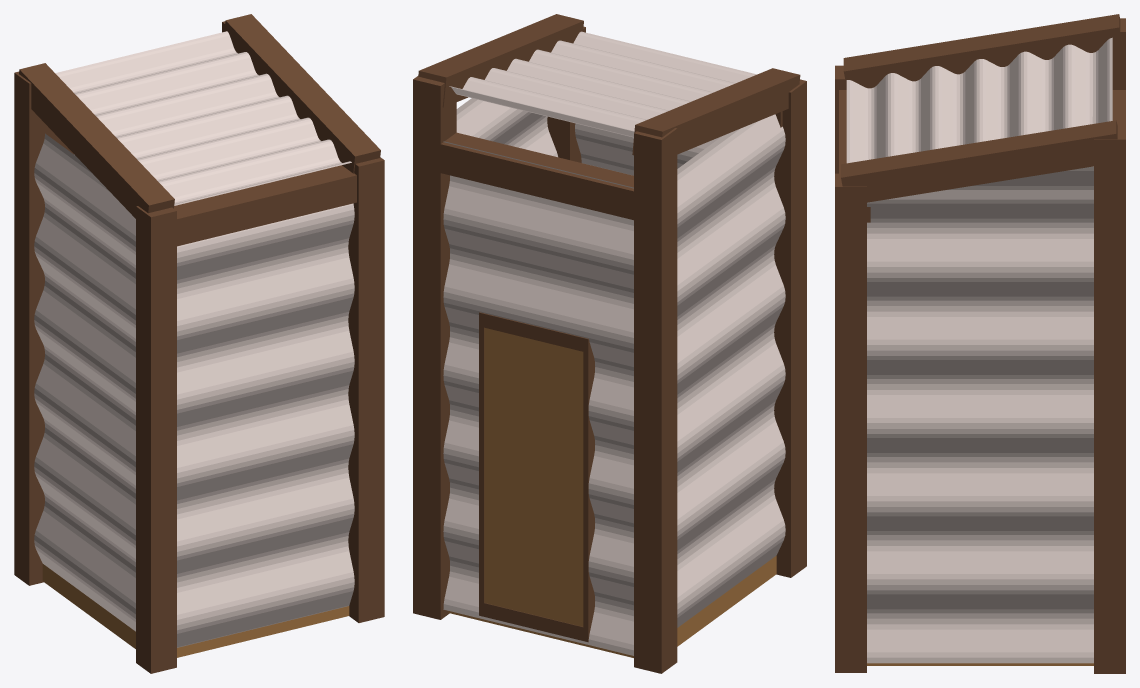
The model's file is Toilet.fbx.
3 renders of one model, left to right at view 1: azimuth 30°, elevation 25°; view 2: azimuth 150°, elevation 25°; view 3: azimuth 270°, elevation 25°, orthographic. The views are drawn at different scales.
Visible parts, largest first — view 1: Plane.020, Plane.021, Plane.017, Cube.062, Cube.063, Cube.066, Cube.055, Cube.059, Cube.056, Cube.067; view 2: Plane.018, Plane.021, Cube.065, Cube.066, Cube.061, Plane.017, Cube.062, Cube.060, Cube.064, Cube.055, Cube.056, Plane.019 (+3 smaller); view 3: Plane.019, Plane.017, Cube.061, Cube.063, Cube.056, Cube.055, Plane.021, Cube.067, Cube.059, Cube.066, Cube.062, Cube.060.
Part boxes in pixels (x1,y1,x2,y2): Plane.020: (177,203,354,647); Plane.021: (34,133,135,631); Plane.017: (55,31,351,205); Cube.062: (136,206,176,673); Cube.063: (348,157,384,622); Cube.066: (14,71,52,585); Cube.055: (19,63,174,218); Cube.059: (174,165,356,246); Cube.056: (224,14,380,173); Cube.067: (42,564,349,657); Plane.018: (443,141,633,655); Plane.021: (677,114,785,627); Cube.065: (484,327,583,626); Cube.066: (634,128,677,673); Cube.061: (413,76,456,619); Plane.017: (449,31,756,137); Cube.062: (774,79,806,577); Cube.060: (440,132,651,220); Cube.064: (479,312,594,642); Cube.055: (632,68,800,155); Cube.056: (418,14,583,107); Plane.019: (456,98,557,157); Plane.019: (867,194,1093,663); Plane.017: (846,37,1112,163); Cube.061: (1094,126,1125,673); Cube.063: (835,173,866,672); Cube.056: (841,120,1117,202); Cube.055: (843,14,1124,88); Plane.021: (920,166,1093,194); Cube.067: (867,663,1093,665); Cube.059: (839,90,870,222); Cube.066: (1112,18,1125,89); Cube.062: (835,65,846,173); Cube.060: (1112,90,1125,126).
Size of the model in its own units: 450 by 933 by 456.
